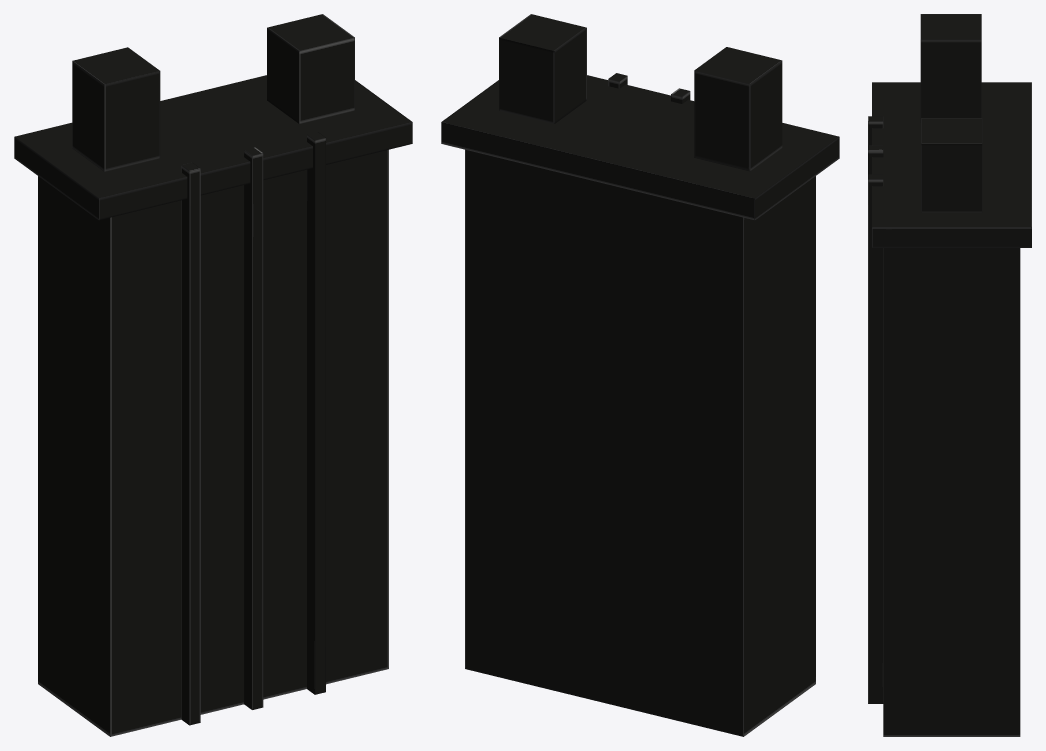
Rendered from building_2.glb.
The picture shows the model from 3 angles, left to right: view 1: azimuth 30°, elevation 25°; view 2: azimuth 150°, elevation 25°; view 3: azimuth 270°, elevation 25°; orthographic projection. The views are drawn at different scales.
Visible parts, largest first — view 1: TowerBuilding; view 2: TowerBuilding; view 3: TowerBuilding.
Boxes of the visible parts, bbox=[...] form: TowerBuilding: bbox=[14, 14, 412, 736]; TowerBuilding: bbox=[441, 14, 839, 736]; TowerBuilding: bbox=[868, 14, 1031, 736].
Bounding box in the file's own units: 22.5 × 43.5 × 10.75.
1 material, 1 textured.
